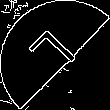L_SE: (25, 26, 85, 84)
